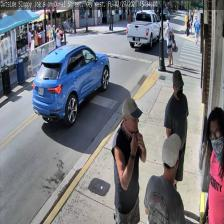person: (110, 98, 146, 222), (163, 70, 189, 214), (144, 133, 184, 223), (201, 106, 223, 224), (165, 20, 173, 66)
